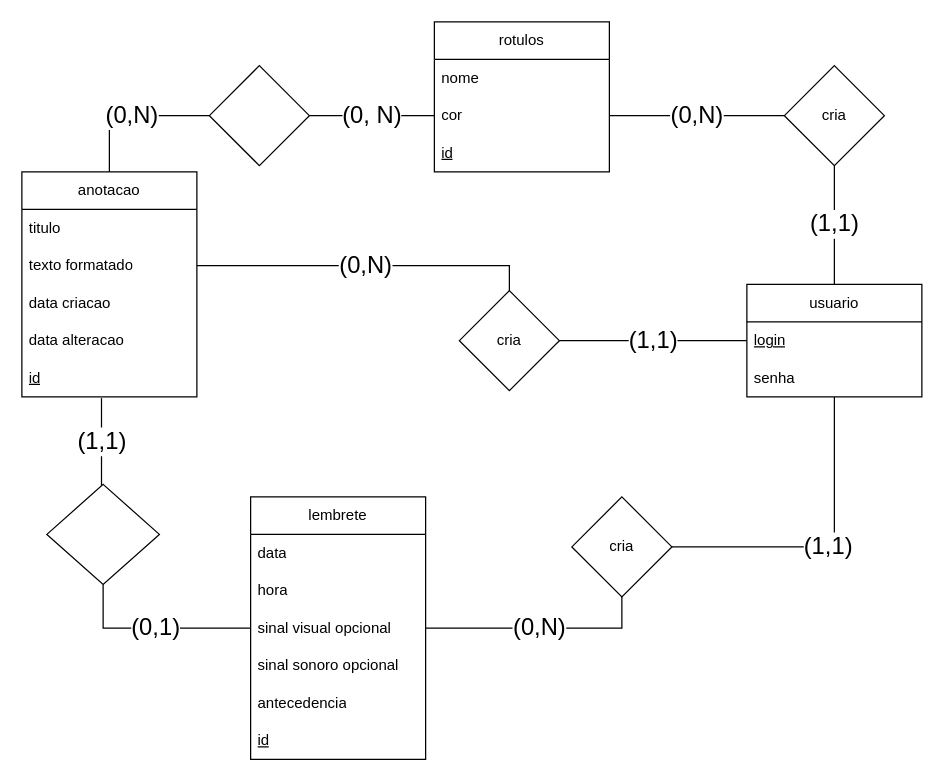
This 944x781 diagram has some shape labels left out. Here are the shapes that lost their labels. From the top down, the centre of each, then its label:
At [258,115]: "possui".
At [102,533]: "vinculada".
